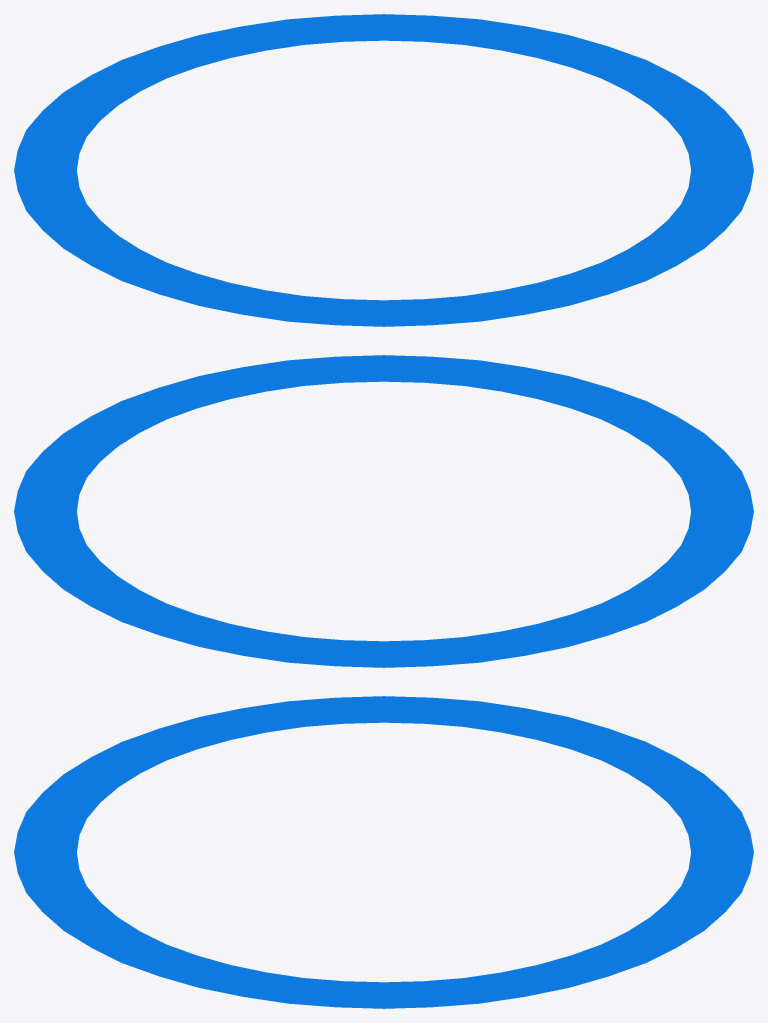
The picture shows the model from 3 angles, top to bottom: view 1: azimuth 30°, elevation 25°; view 2: azimuth 150°, elevation 25°; view 3: azimuth 270°, elevation 25°; orthographic projection.
Visible parts, largest first — view 1: su4; view 2: su4; view 3: su4.
Boxes of the visible parts, bbox=[...] form: su4: bbox=[14, 14, 753, 326]; su4: bbox=[14, 355, 753, 667]; su4: bbox=[14, 696, 753, 1008].
Bounding box in the file's own units: 1268 × 0 × 1268.
